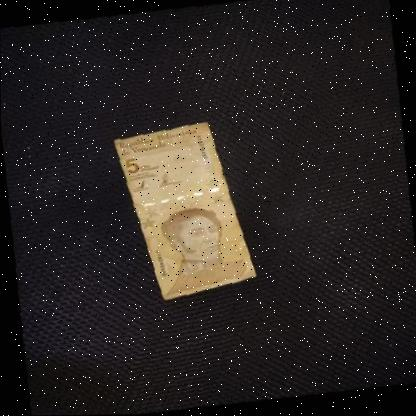five-front-vef: (111, 118, 258, 305)
